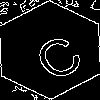C: (24, 25, 88, 84)
